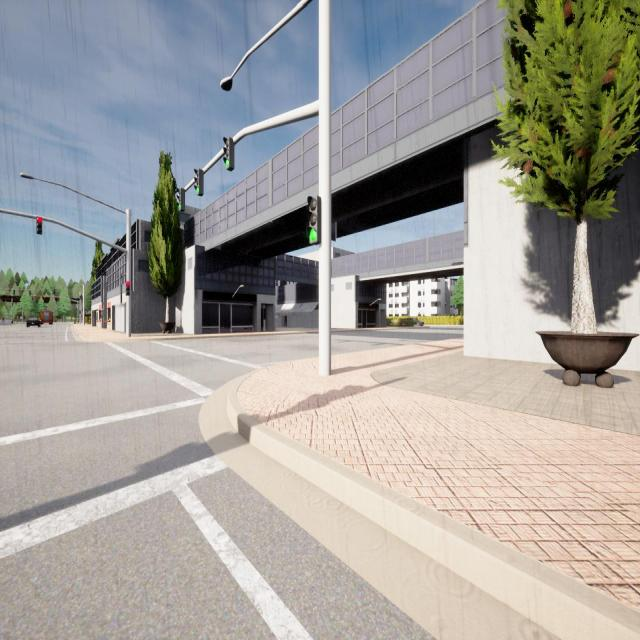Vehicle: (40, 309, 53, 325), (27, 318, 40, 328), (413, 317, 424, 326)
traffic_light: (307, 195, 321, 245), (223, 137, 234, 171), (194, 168, 203, 196), (177, 188, 185, 211), (36, 216, 42, 235), (126, 282, 130, 296), (29, 290, 31, 296), (44, 296, 46, 300), (58, 297, 60, 301), (14, 290, 15, 295), (32, 296, 33, 300), (80, 296, 81, 300), (81, 294, 82, 298)
